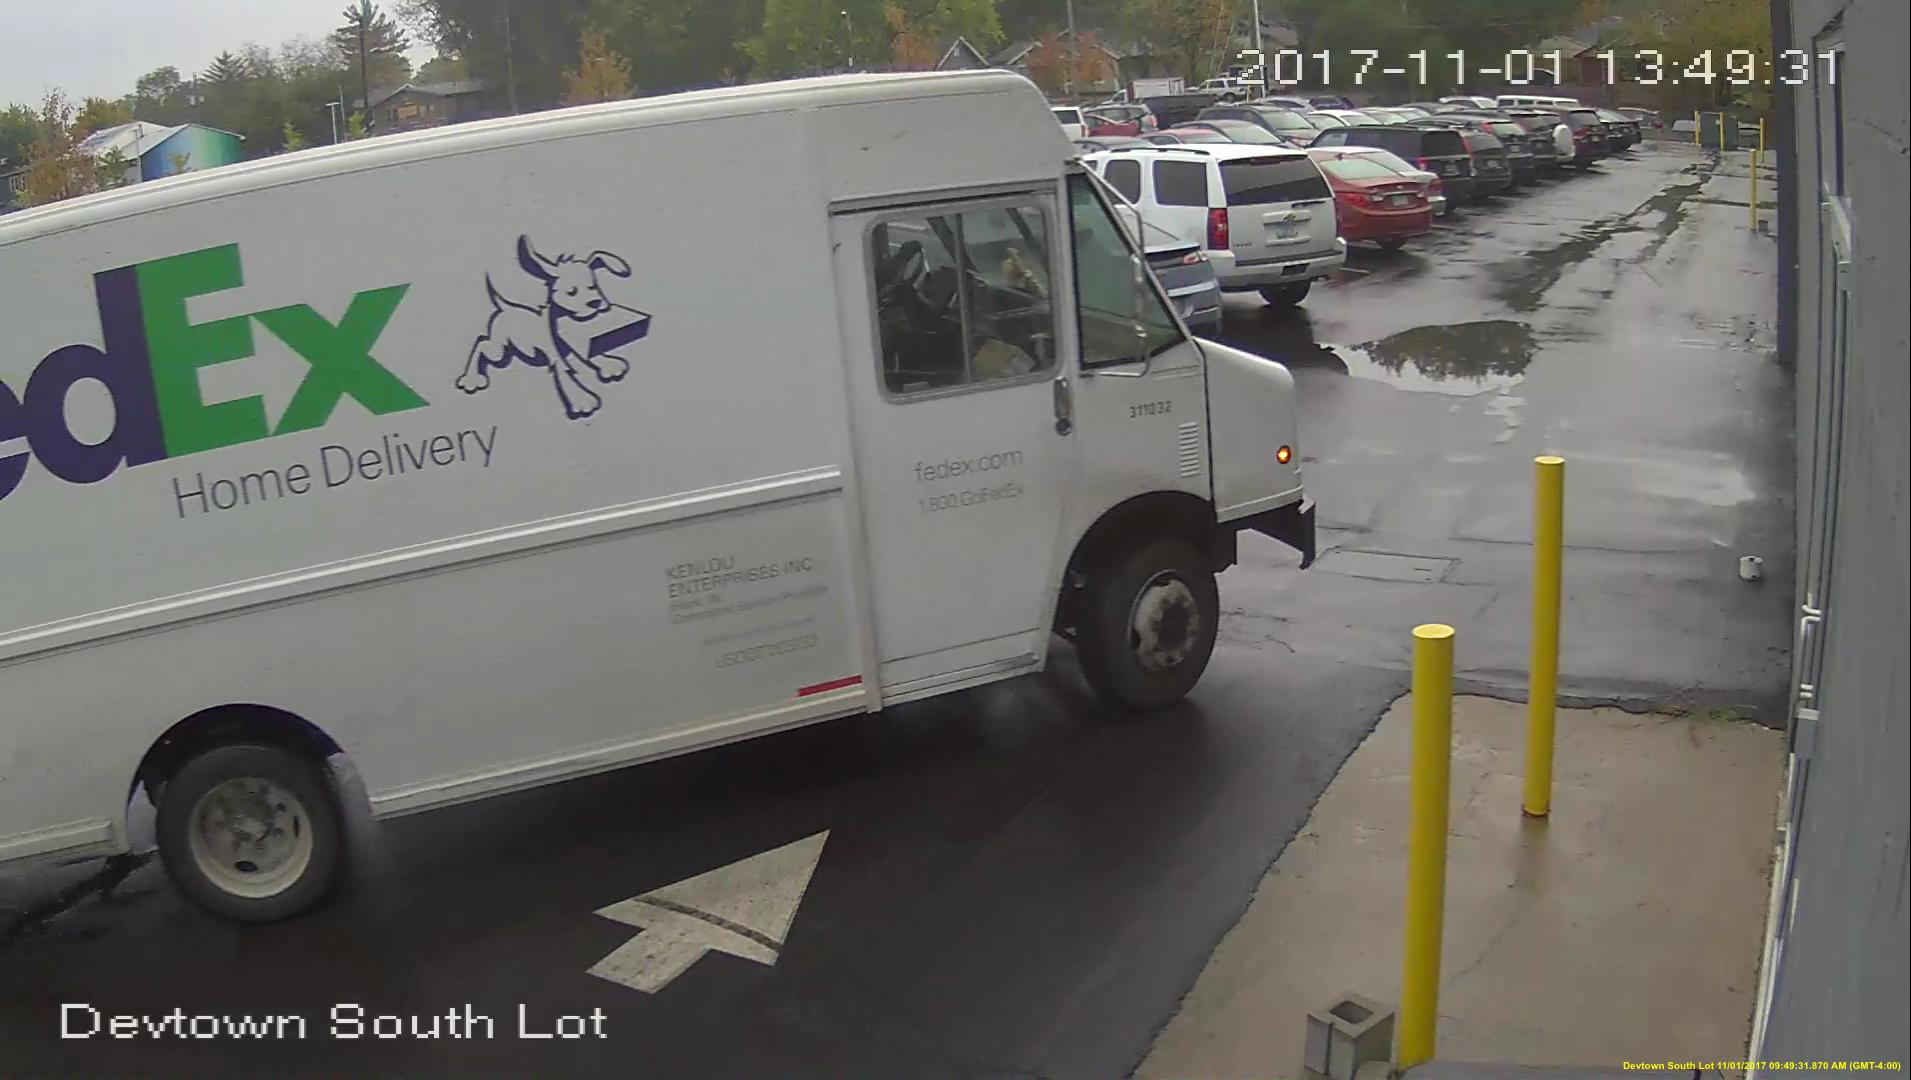fedex_truck: (3, 62, 1326, 951)
